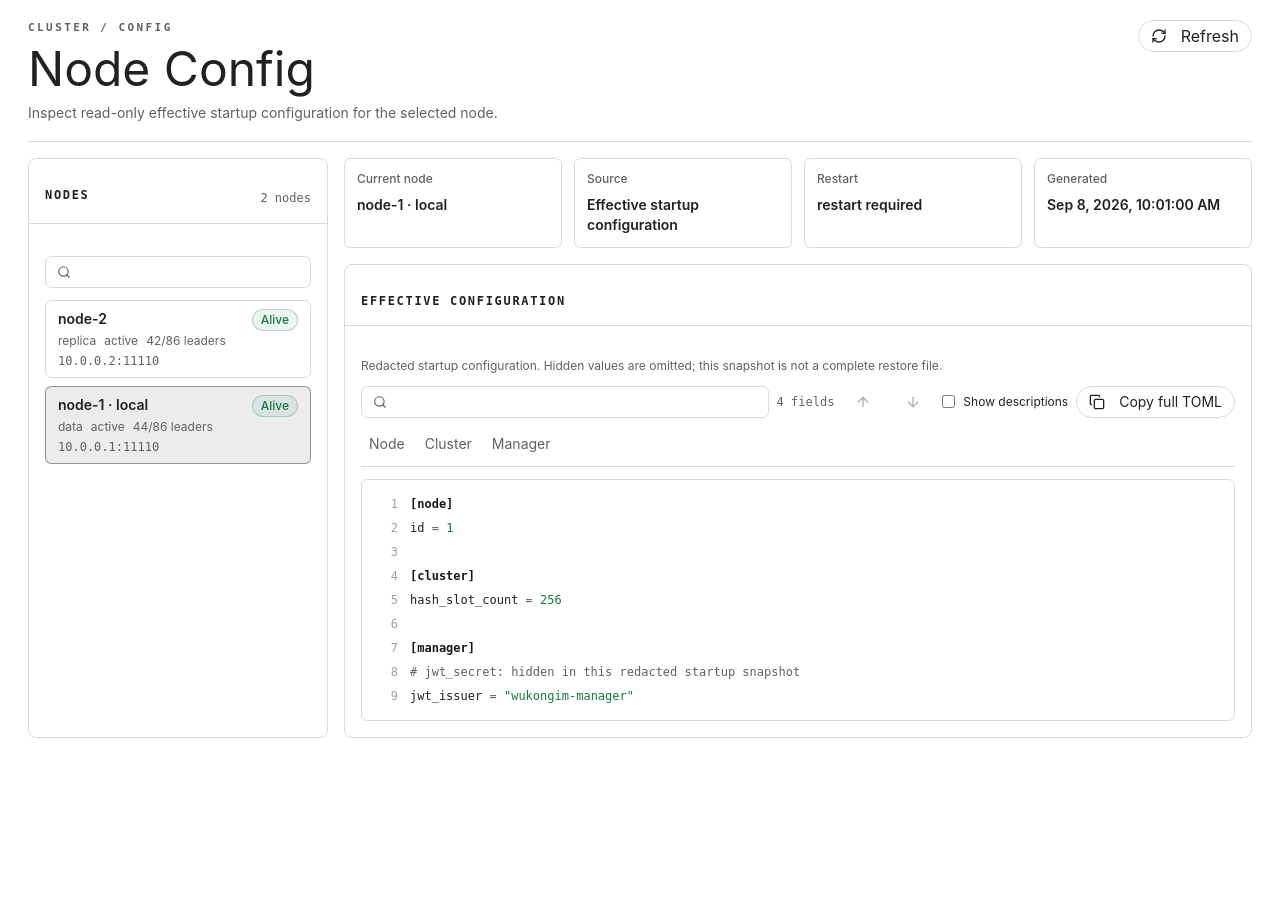
it: reports clipboard failure without reporting success
This screenshot has width=1280, height=900.
Check: the element named "Startup TOML configuration" is shown, box [361,478,1235,720]
Click the button "Copy full TOML".
click(1156, 402)  # box [1076,386,1235,418]
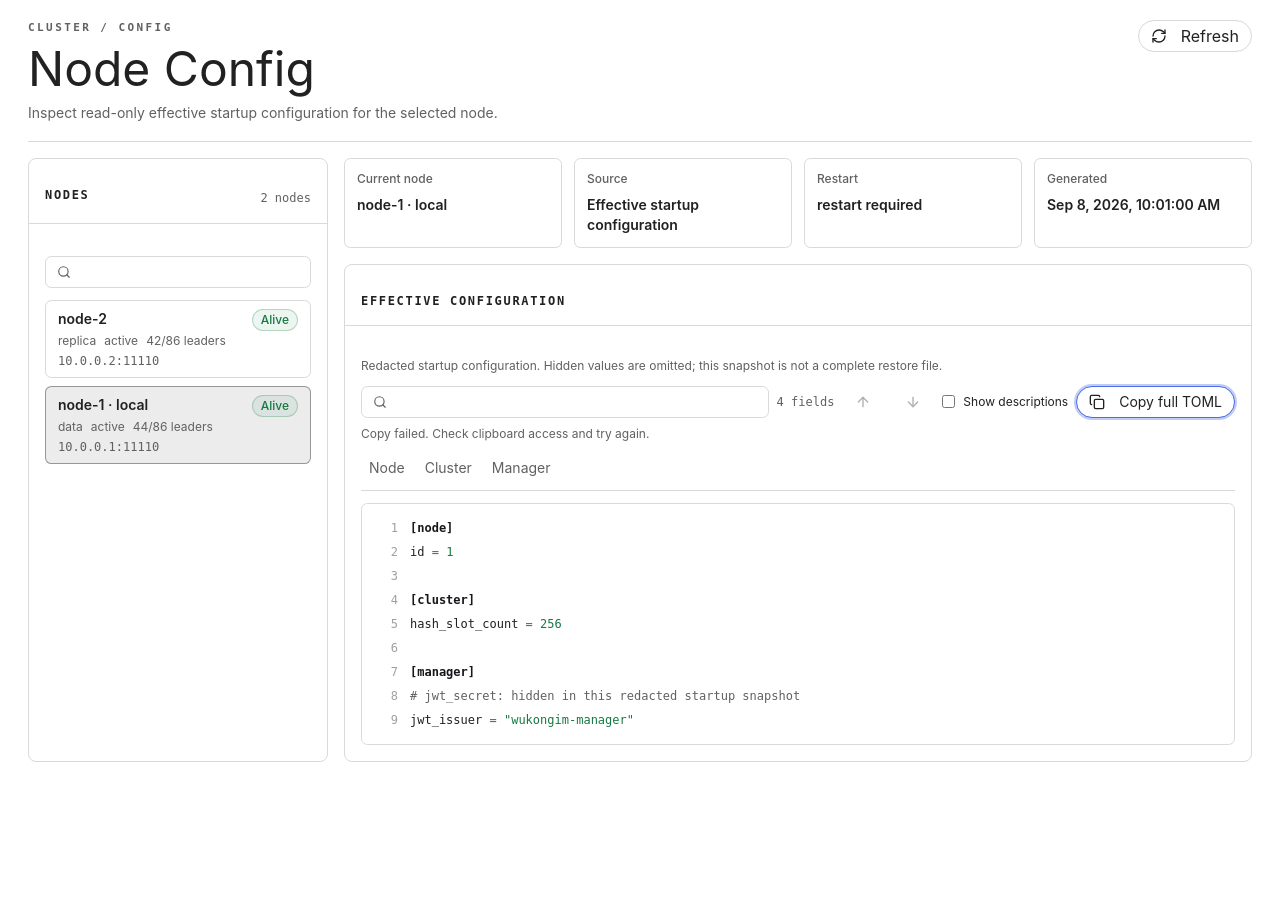
Check: the text "Copy failed. Check clipboard access and try again." is shown, box [361,426,649,442]
